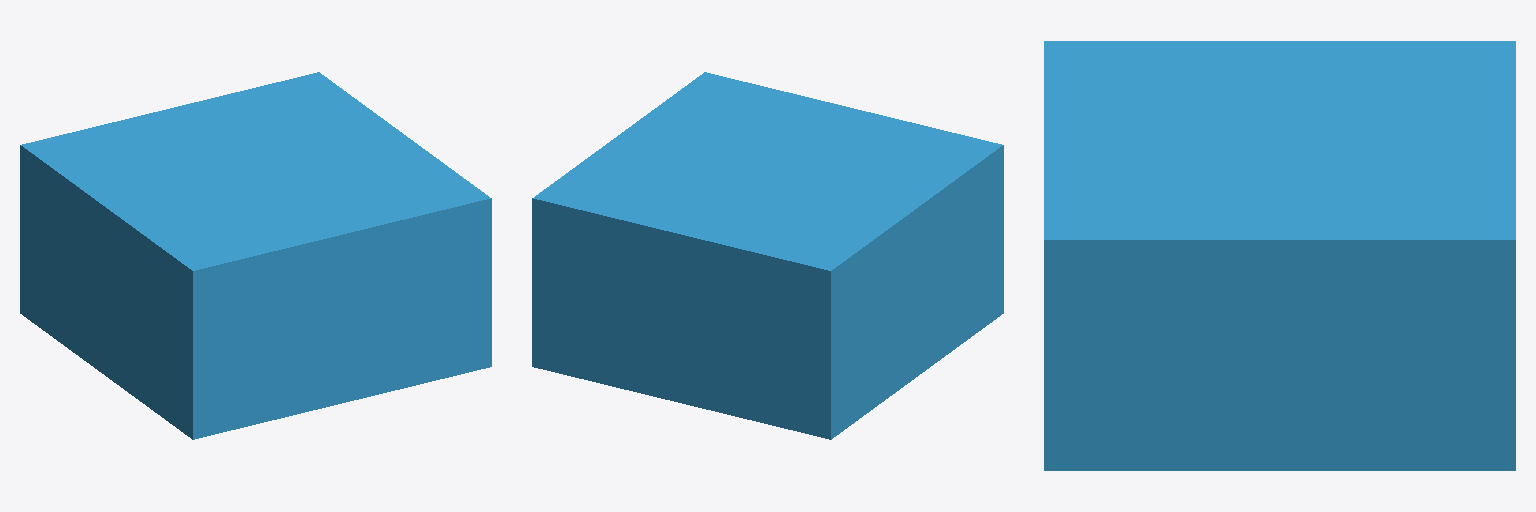
URDF robot description (multi_boxes):
<?xml version="1.0"?>
<robot name="multi_boxes">
  <!-- Box 1: climbing obstacle (54cm tall) -->
  <link name="multi_boxes_link">
    <visual>
      <origin xyz="0 0 0" rpy="0 0 0"/>
      <geometry>
        <mesh filename="box_models/box1.obj" scale="1.0 1.0 1.0"/>
      </geometry>
      <material name="box1_material">
        <color rgba="0.3 0.7 0.9 0.5"/>
      </material>
    </visual>

    <collision name="multi_boxes_box1">
      <origin xyz="0 0 0" rpy="0 0 0"/>
      <geometry>
        <mesh filename="box_models/box1.obj" scale="1.0 1.0 1.0"/>
      </geometry>
    </collision>

    <inertial>
      <origin xyz="0 0 0" rpy="0 0 0"/>
      <mass value="33.33"/>
      <inertia ixx="33.33" ixy="0.0" ixz="0.0" iyy="33.33" iyz="0.0" izz="33.33"/>
    </inertial>
  </link>
</robot>

--- What the picture shows (computed from the rendered views, not written in the file) ---
The picture shows the robot from 3 angles, left to right: view 1: azimuth 30°, elevation 25°; view 2: azimuth 150°, elevation 25°; view 3: azimuth 270°, elevation 25°; orthographic projection.
Robot: multi_boxes — 1 links, 0 joints (none); root link multi_boxes_link; default pose: every joint at zero.
Visible links, largest first — view 1: multi_boxes_link; view 2: multi_boxes_link; view 3: multi_boxes_link.
Link boxes in pixels (x1=…): multi_boxes_link: x1=20, y1=72, x2=491, y2=439; multi_boxes_link: x1=532, y1=72, x2=1003, y2=439; multi_boxes_link: x1=1044, y1=41, x2=1515, y2=470.
Size in the robot's own frame: 1 by 1 by 0.54 metres.
Meshes: 1 distinct files referenced, 1 mesh visuals loaded (1 OBJ).
